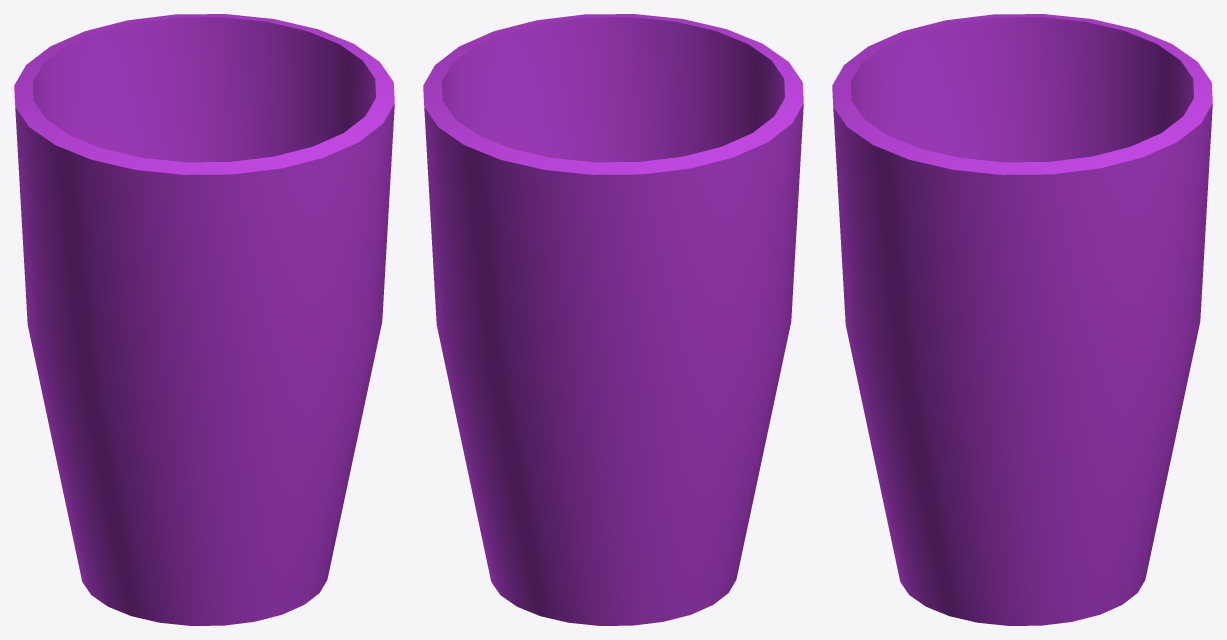
Rendered from 4 mugs.fbx.
The picture shows the model from 3 angles, left to right: view 1: azimuth 30°, elevation 25°; view 2: azimuth 150°, elevation 25°; view 3: azimuth 270°, elevation 25°; orthographic projection.
Parts seen in each view (by area): view 1: 4 mugs; view 2: 4 mugs; view 3: 4 mugs.
Part boxes in pixels (box(x1,y1,x2,y2)): 4 mugs: box(14, 14, 394, 625); 4 mugs: box(423, 14, 803, 625); 4 mugs: box(832, 14, 1212, 625).
Bounding box in the file's own units: 5.23 × 7.34 × 5.23.
